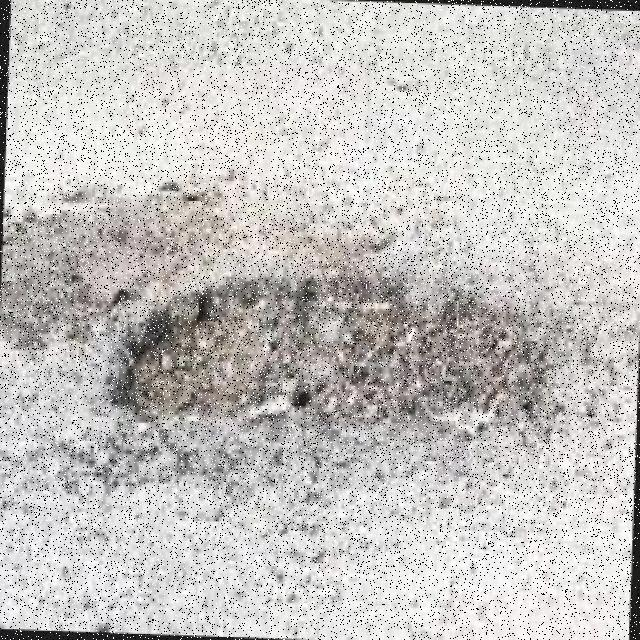Pothole: (114, 282, 538, 428)
